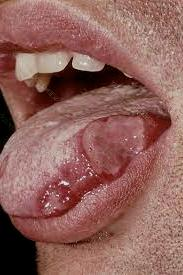Ulcer: (31, 104, 146, 220)
